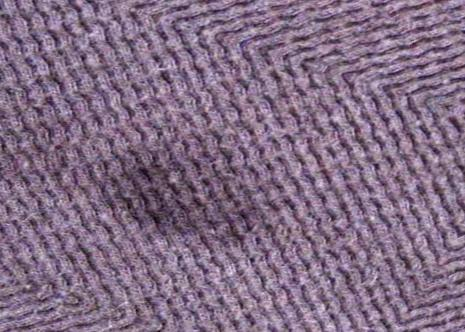stain: (103, 144, 269, 254)
